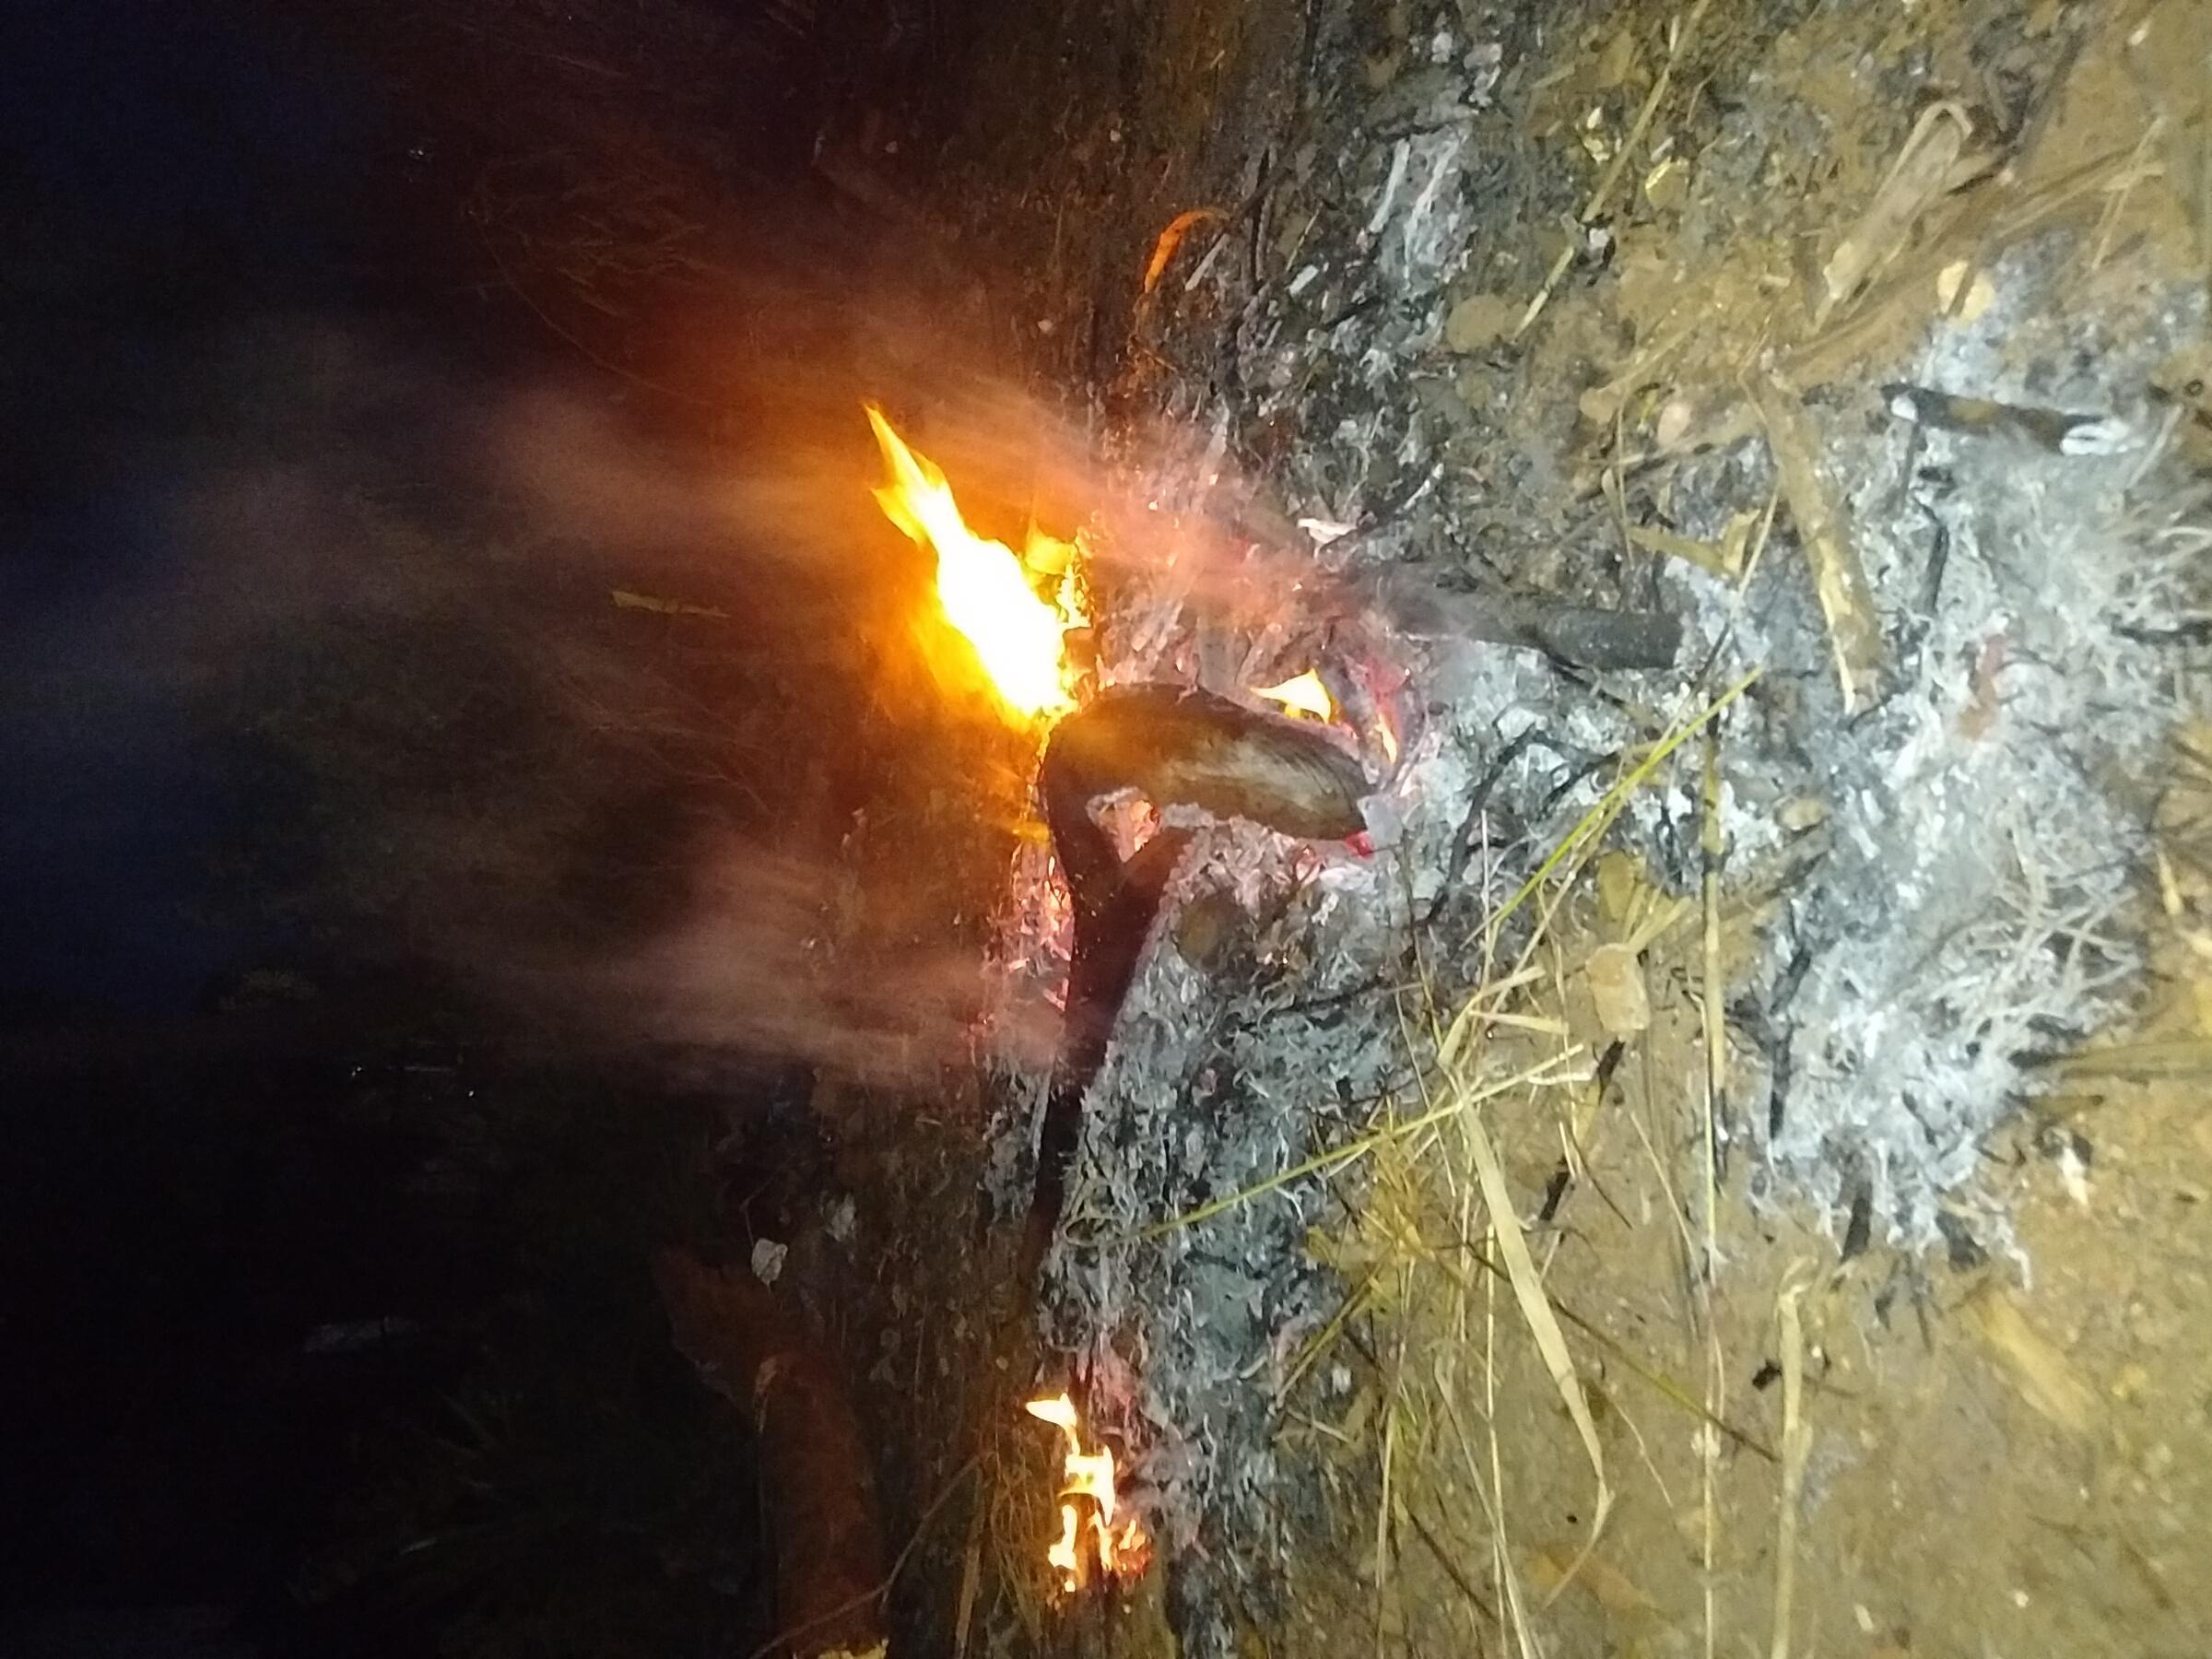fire: (1223, 641, 1681, 817), (70, 763, 368, 866)
